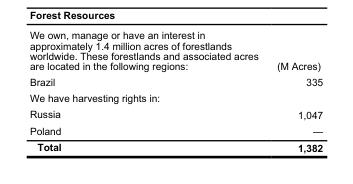table: (28, 29, 322, 152)
table column: (28, 29, 266, 152), (266, 29, 322, 152)
table projected row header: (28, 89, 322, 105)
table row: (28, 29, 322, 73), (28, 105, 322, 122), (28, 73, 322, 89), (28, 89, 322, 105), (28, 122, 322, 138), (28, 138, 322, 152)
